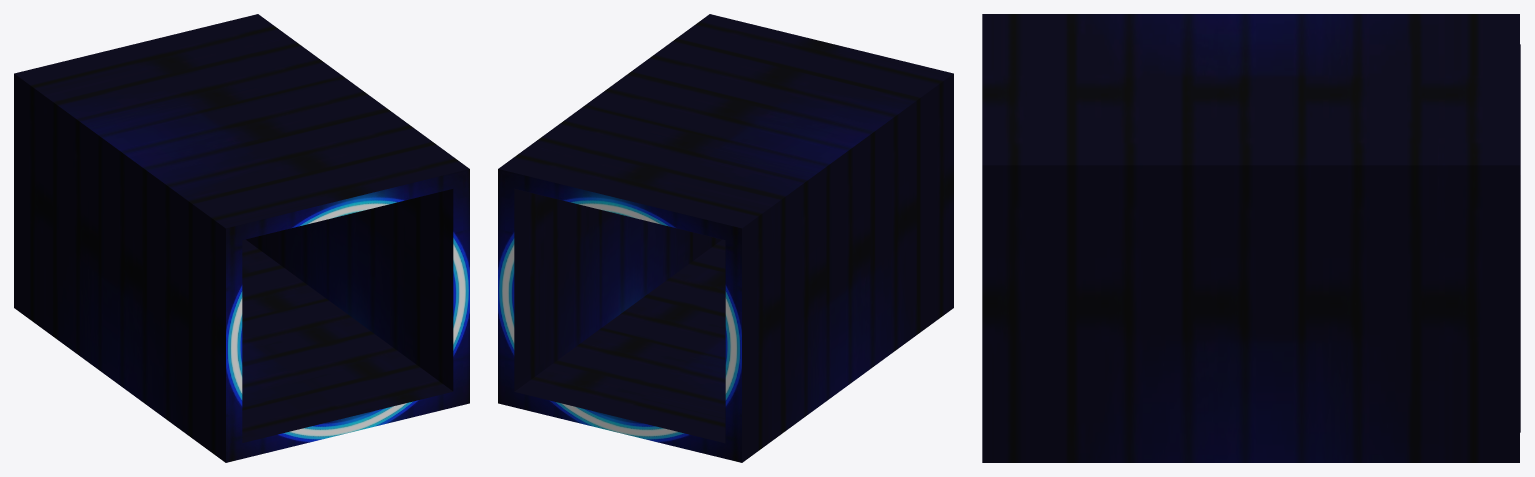
File: N3Tuberia.fbx
3 renders of one model, left to right at view 1: azimuth 30°, elevation 25°; view 2: azimuth 150°, elevation 25°; view 3: azimuth 270°, elevation 25°, orthographic. The views are drawn at different scales.
Visible parts, largest first — view 1: Cube.011; view 2: Cube.011; view 3: Cube.011.
Part boxes in pixels (x1,y1,x2,y2): Cube.011: (14, 14, 469, 462); Cube.011: (498, 14, 953, 462); Cube.011: (982, 14, 1520, 462).
Size of the model in its own units: 474 by 435 by 713.
1 material, 1 textured.
